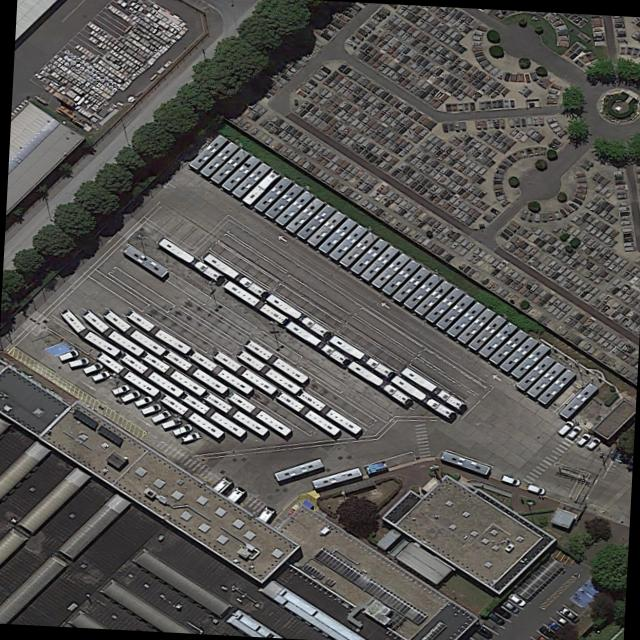large-vehicle: (100, 307, 166, 355), (345, 358, 412, 405), (124, 308, 192, 354), (57, 308, 122, 356), (80, 308, 144, 356), (295, 388, 361, 434), (274, 389, 340, 435), (222, 279, 288, 325), (178, 391, 245, 436), (156, 236, 223, 281), (398, 365, 465, 410), (200, 391, 268, 435), (158, 392, 223, 438), (264, 292, 329, 338), (389, 372, 454, 418), (118, 350, 183, 396), (94, 350, 159, 396), (210, 349, 276, 394), (225, 390, 291, 435), (234, 348, 300, 393), (186, 348, 252, 393), (283, 319, 349, 364), (139, 350, 205, 395), (161, 349, 227, 393), (327, 334, 393, 378), (242, 338, 306, 383), (202, 252, 266, 297), (208, 146, 250, 183), (121, 243, 167, 276), (337, 230, 378, 267), (433, 293, 474, 330), (219, 153, 260, 190), (369, 251, 411, 287), (358, 244, 398, 281), (477, 320, 517, 357), (557, 381, 597, 418), (536, 367, 576, 404), (455, 306, 495, 343), (401, 272, 441, 309), (390, 265, 430, 302), (273, 188, 313, 225), (509, 341, 550, 377), (379, 258, 420, 294), (444, 300, 485, 336), (295, 203, 336, 239), (283, 196, 324, 232), (262, 182, 303, 218), (252, 175, 293, 211), (525, 360, 564, 397), (188, 132, 227, 169), (327, 223, 367, 259), (423, 286, 463, 322), (305, 209, 345, 245), (240, 168, 280, 204), (199, 140, 239, 176), (513, 354, 554, 389), (349, 237, 388, 273), (498, 335, 537, 371), (413, 279, 452, 315), (317, 216, 356, 252), (231, 161, 270, 197), (487, 328, 527, 363), (466, 314, 506, 349), (439, 449, 489, 475), (273, 457, 323, 481), (310, 466, 361, 488)
small-vehicle: (51, 347, 79, 362), (147, 408, 172, 424), (558, 606, 581, 623), (78, 359, 103, 374), (499, 597, 520, 614), (554, 419, 575, 436), (505, 591, 527, 607), (582, 434, 602, 451), (572, 431, 592, 448), (138, 401, 161, 415), (118, 388, 141, 402), (491, 604, 512, 619), (525, 481, 546, 496), (537, 624, 558, 639), (499, 473, 521, 487), (170, 422, 192, 436), (66, 355, 89, 368), (564, 424, 582, 440), (159, 416, 181, 429), (486, 611, 505, 626), (475, 624, 494, 639), (178, 430, 201, 442), (89, 369, 110, 382), (554, 615, 573, 629), (109, 382, 130, 394), (546, 620, 564, 634), (132, 394, 152, 406)
